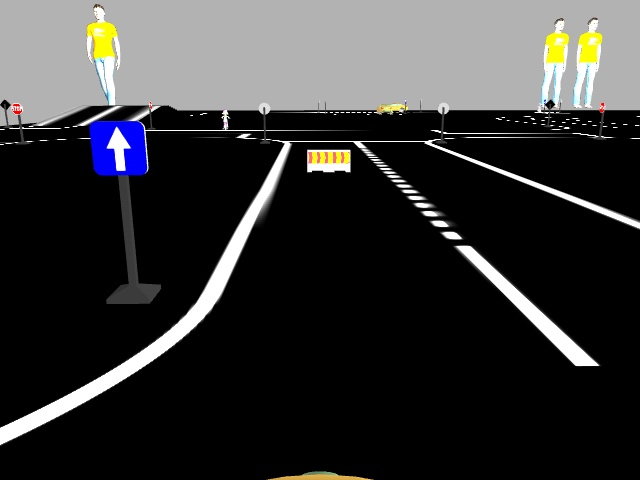ClosedRoadStand: (309, 150, 350, 170)
OneWay: (89, 125, 148, 175)
